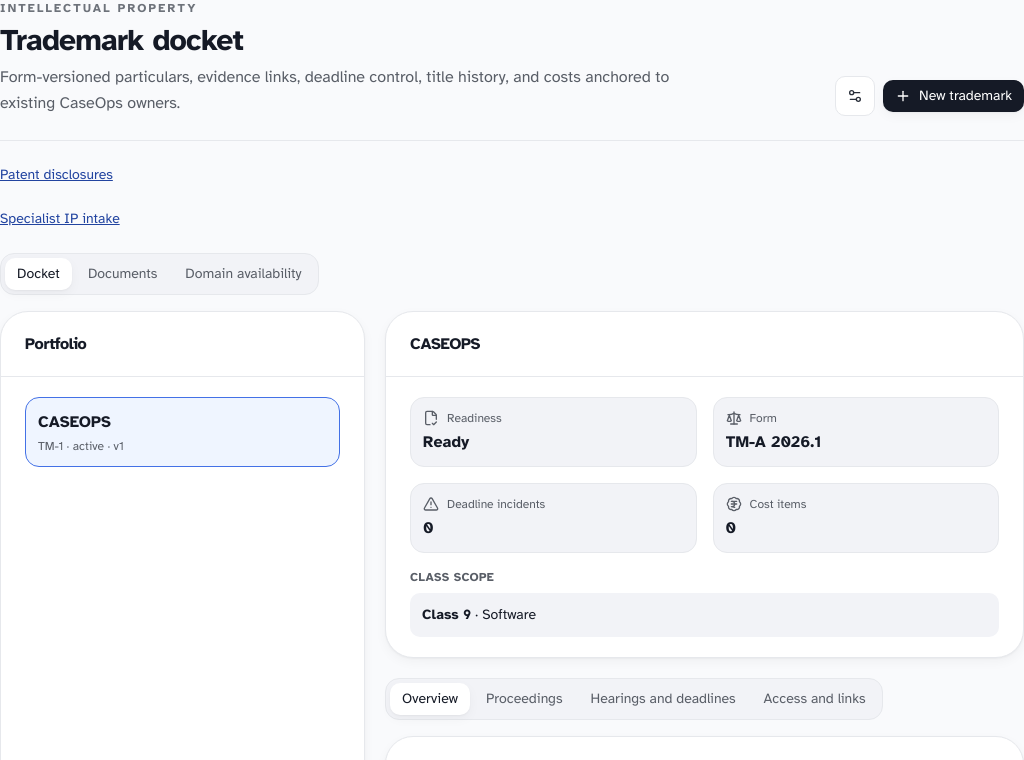
IpDocketPage › preserves unavailable and inactive saved reminder recipients without adding assignment options
The width and height of the screenshot is (1024, 760).
Click the tab "Hearings and deadlines" at coordinates (663, 699), box [578,683,748,715]
(page scrolled)
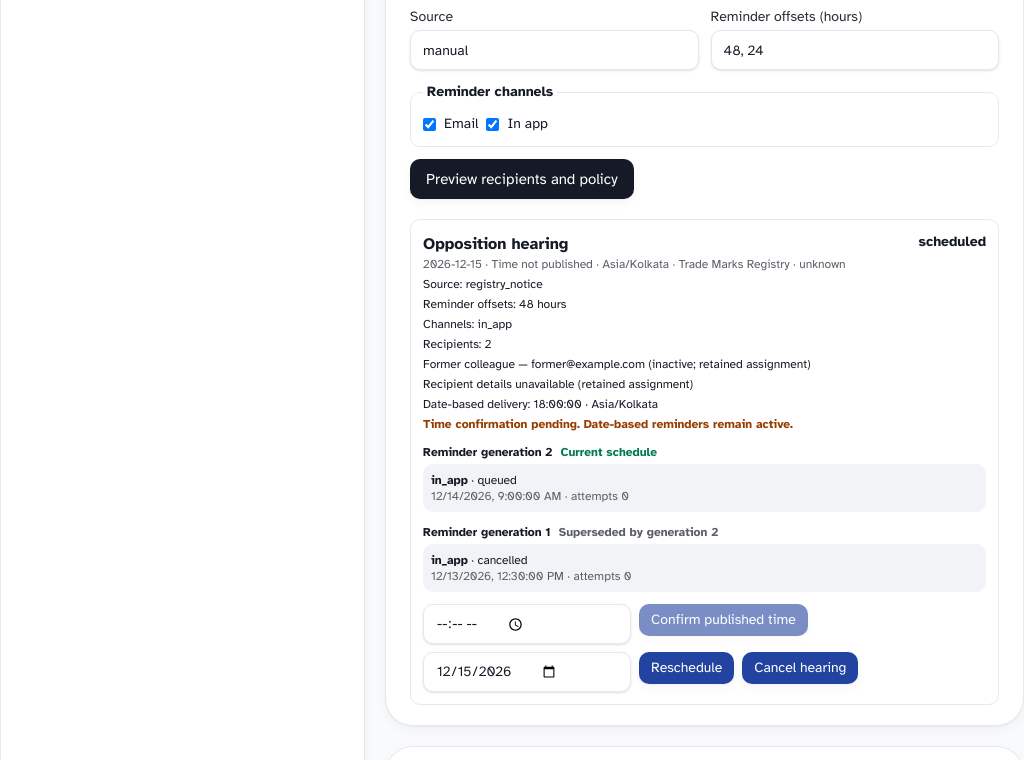
Result: the list named "Saved reminder recipients" shows "Former colleague — former@example.com (inactive; retained assignment)" at [423,356,846,392]
Result: the list named "Saved reminder recipients" shows "Recipient details unavailable (retained assignment)" at [423,377,693,391]
